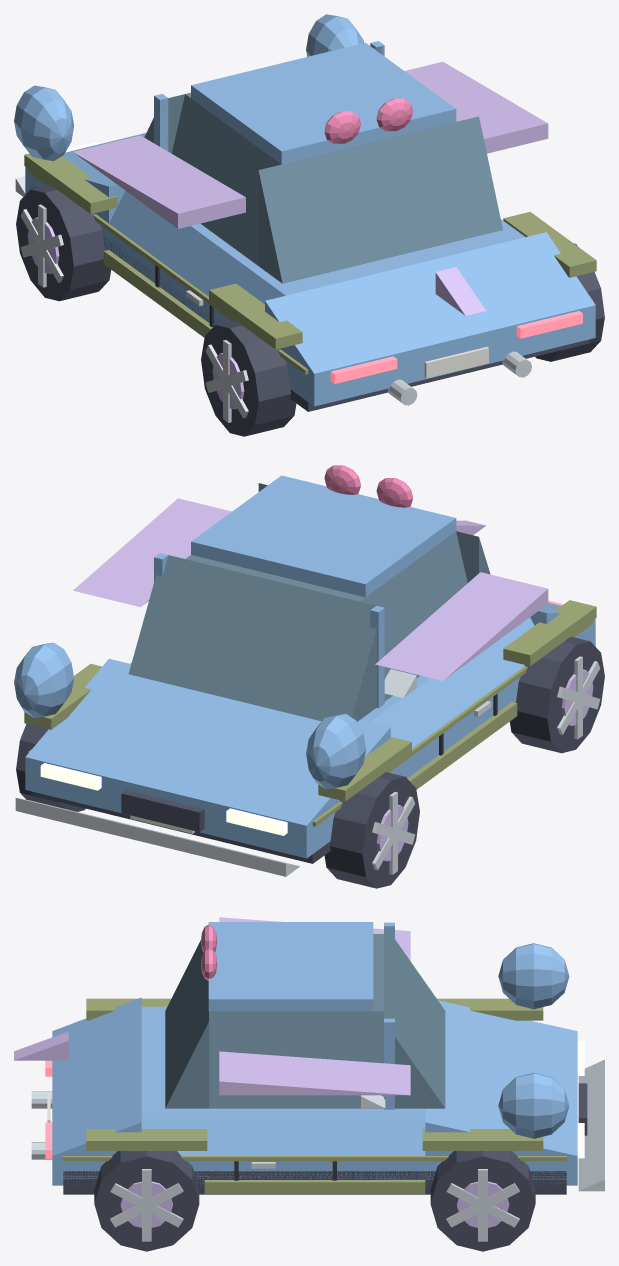
Rendered from rainbow_raptor.glb.
3 views of the same model, one above another, from view 1: azimuth 30°, elevation 25°; view 2: azimuth 150°, elevation 25°; view 3: azimuth 270°, elevation 25° (orthographic). The views are drawn at different scales.
Parts seen in each view (by area): view 1: RearWindow.236, Tail.142, Roof.336, Body.336, Wing_L.014, CabinSideL.133, ShoulderL.133, Wheel_RL.276, Wheel_FL.276, Wing_R.014, BodyUpper.133, Claw-1.011 (+21 smaller); view 2: Windshield.236, Nose.133, Roof.336, Wing_L.014, Body.336, Wing_R.014, ShoulderL.133, Wheel_FL.276, Wheel_RL.276, CabinSideL.133, Bumper.332, Claw-1.011 (+21 smaller); view 3: Roof.336, Nose.133, Tail.142, CabinSideR.133, ShoulderR.133, Windshield.236, Wing_R.014, Wheel_RR.276, Wheel_FR.276, RearWindow.236, Body.336, Sill.332 (+23 smaller).
Part boxes in pixels (box(x1,y1,x2,y2)): RearWindow.236: box(258, 116, 502, 283); Tail.142: box(265, 232, 595, 373); Roof.336: box(191, 42, 456, 164); Body.336: box(25, 166, 595, 406); Wing_L.014: box(73, 135, 245, 228); CabinSideL.133: box(172, 94, 280, 265); ShoulderL.133: box(109, 190, 285, 303); Wheel_RL.276: box(201, 320, 296, 436); Wheel_FL.276: box(16, 184, 111, 301); Wing_R.014: box(405, 61, 548, 153); BodyUpper.133: box(191, 219, 525, 295); Claw-1.011: box(14, 85, 74, 161); Windshield.236: box(128, 555, 376, 721); Nose.133: box(25, 658, 390, 825); Roof.336: box(191, 475, 456, 597); Wing_L.014: box(375, 572, 548, 680); Body.336: box(25, 618, 595, 858); Wing_R.014: box(73, 498, 231, 606); ShoulderL.133: box(370, 617, 534, 748); Wheel_FL.276: box(324, 772, 419, 888); Wheel_RL.276: box(510, 636, 604, 753); CabinSideL.133: box(360, 531, 467, 701); Bumper.332: box(15, 798, 299, 876); Claw-1.011: box(306, 713, 365, 789); Roof.336: box(208, 922, 373, 1011); Nose.133: box(425, 1000, 577, 1155); Tail.142: box(52, 997, 141, 1155); CabinSideR.133: box(209, 1011, 383, 1108); ShoulderR.133: box(141, 1113, 425, 1155); Windshield.236: box(384, 927, 445, 1108); Wing_R.014: box(219, 1051, 410, 1095); Wheel_RR.276: box(94, 1151, 199, 1251); Wheel_FR.276: box(430, 1151, 535, 1251); RearWindow.236: box(165, 940, 208, 1108); Body.336: box(52, 1156, 577, 1185); Sill.332: box(63, 1171, 566, 1194).
Bounding box in the file's own units: 3.55 × 2.39 × 5.4.
